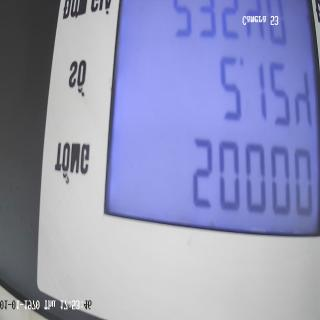screen: (98, 0, 318, 242)
